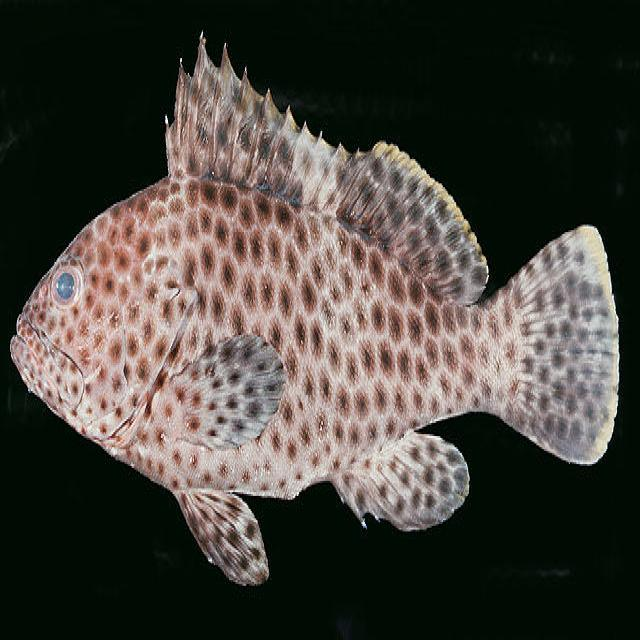ikan: (9, 28, 620, 588)
